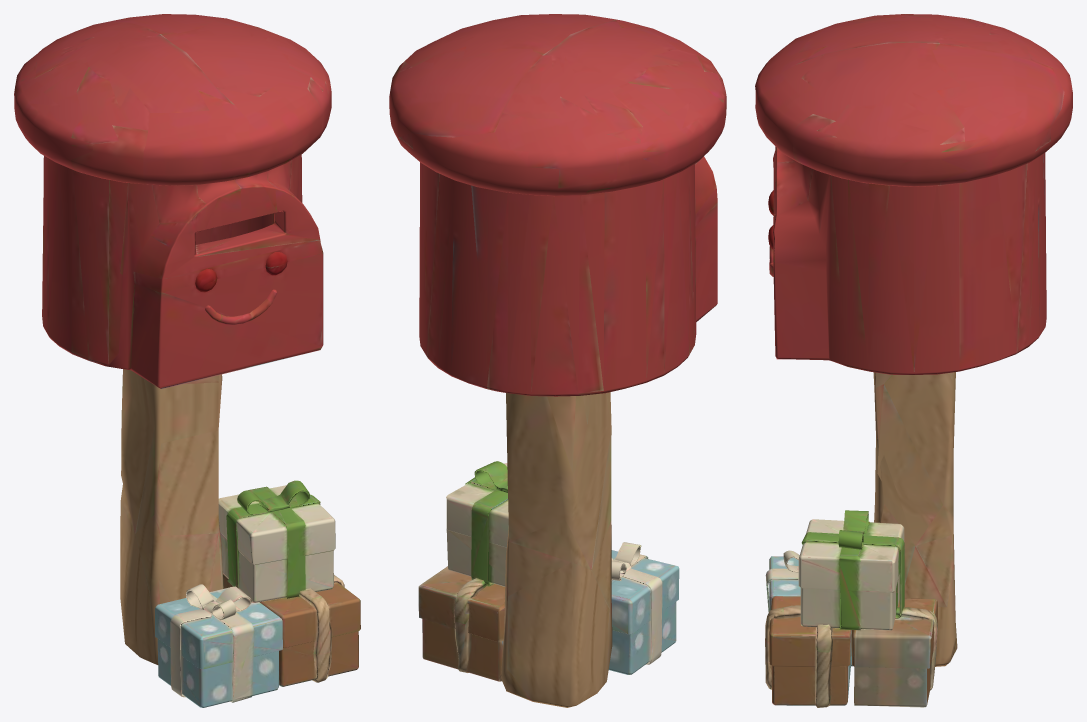
Rendered from mailbox.glb.
3 views of the same model, side by side, from view 1: azimuth 30°, elevation 25°; view 2: azimuth 150°, elevation 25°; view 3: azimuth 270°, elevation 25° (orthographic). The views are drawn at different scales.
Bounding box in the file's own units: 0.4546 × 0.9512 × 0.4502.
1 material, 1 textured.
